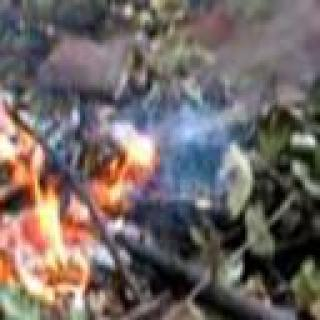fire: (0, 2, 146, 302)
